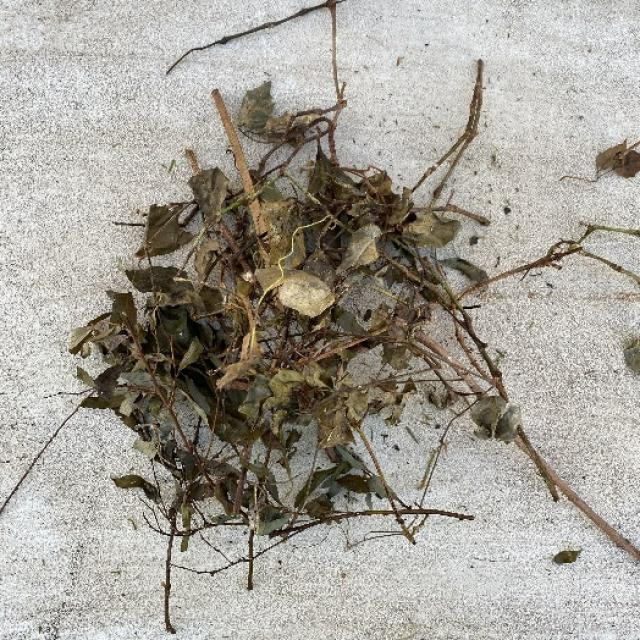organik: (87, 96, 510, 552)
